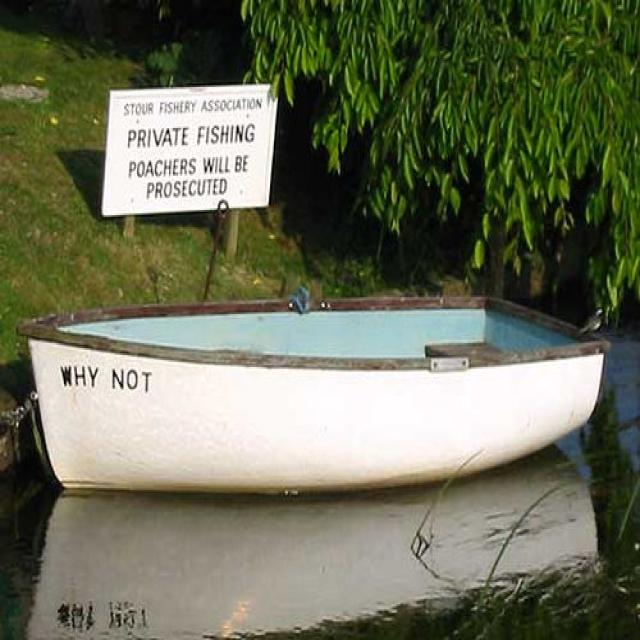boat: (17, 293, 612, 498)
